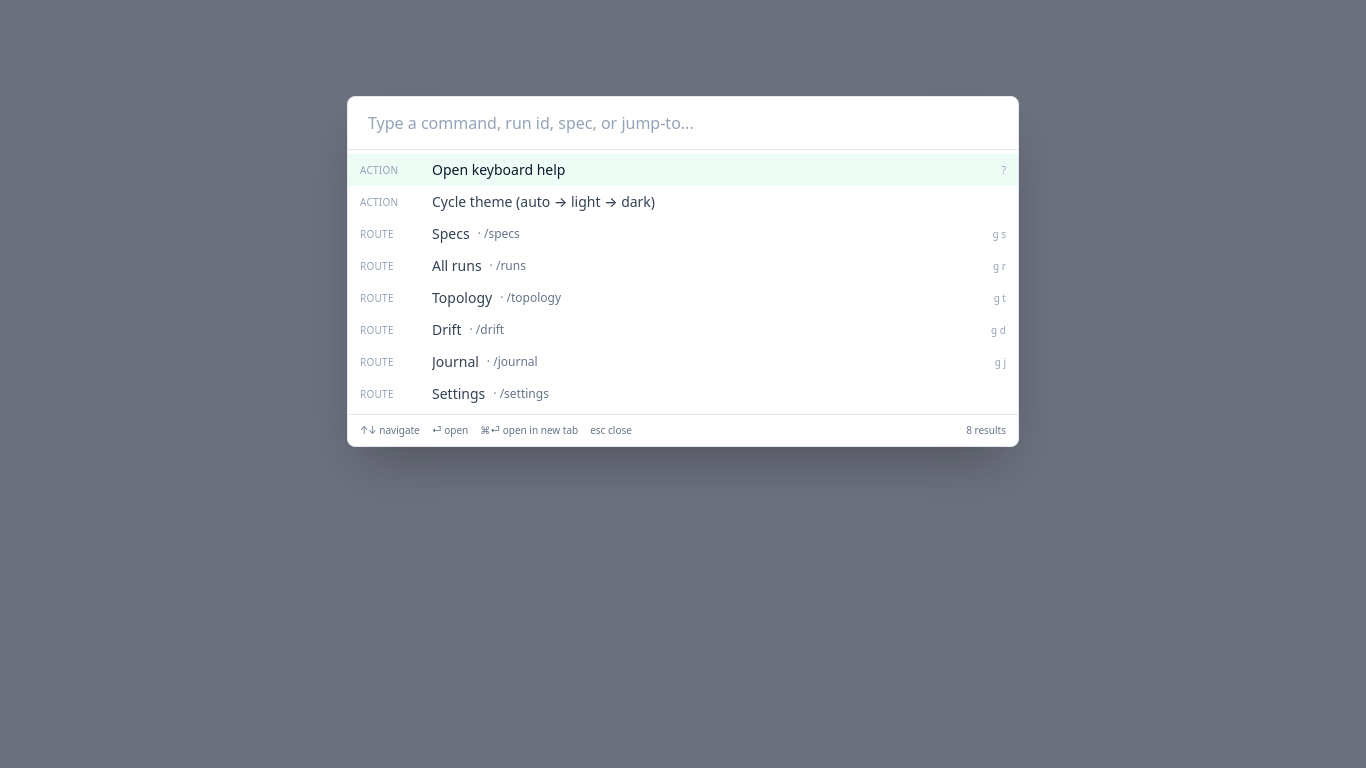
Scenario: CommandPalette › No matches shows empty state
This screenshot has width=1366, height=768.
In the search field named "Command palette search": (683,123) x1=360 y1=105 x2=1006 y2=141, type "zzzzz-non-existent-zzzz"
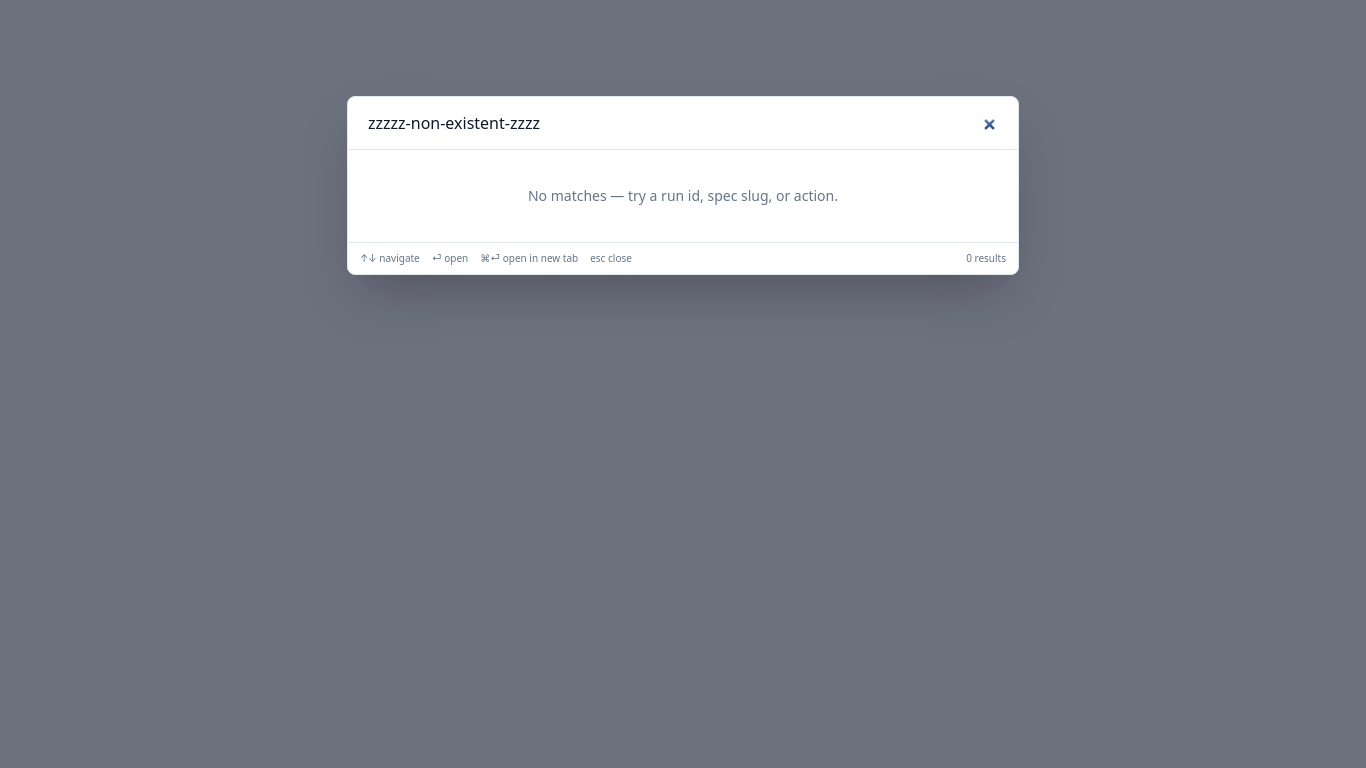
Expected: the list item "No matches — try a run id, spec slug, or action." is shown, x1=528 y1=186 x2=838 y2=205
